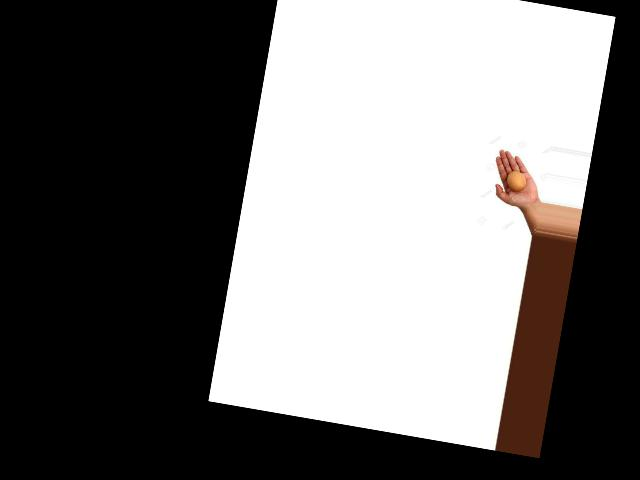egg: (505, 170, 528, 193)
